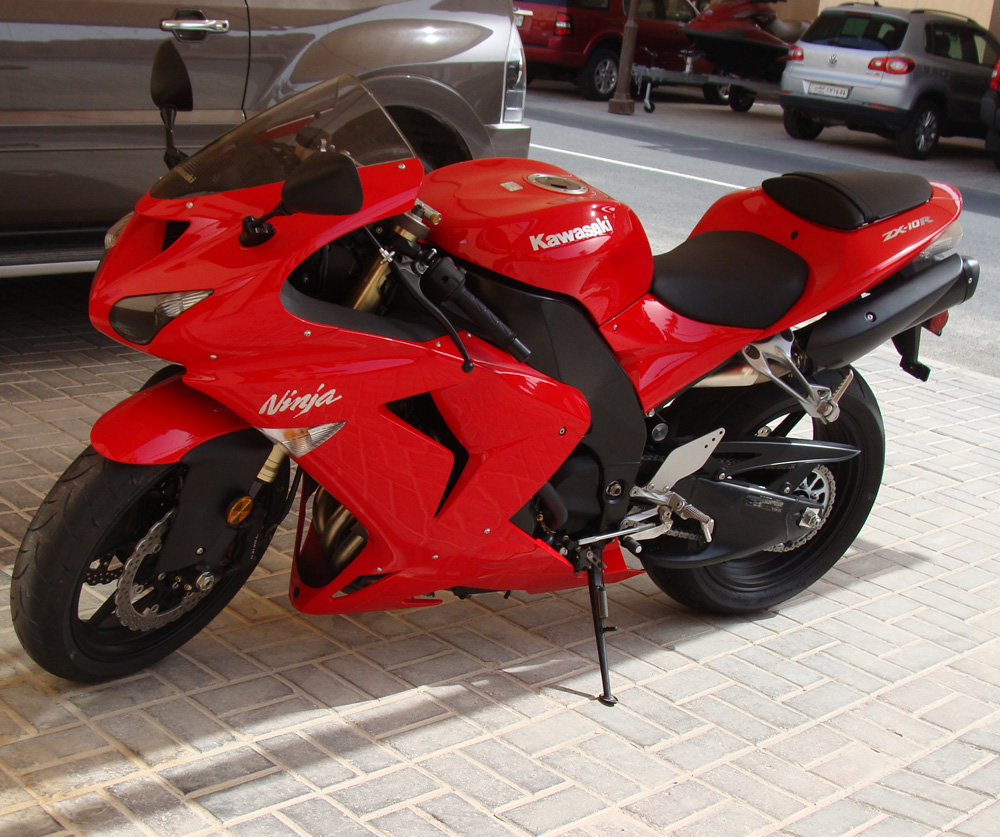motor bike: (24, 39, 984, 677)
